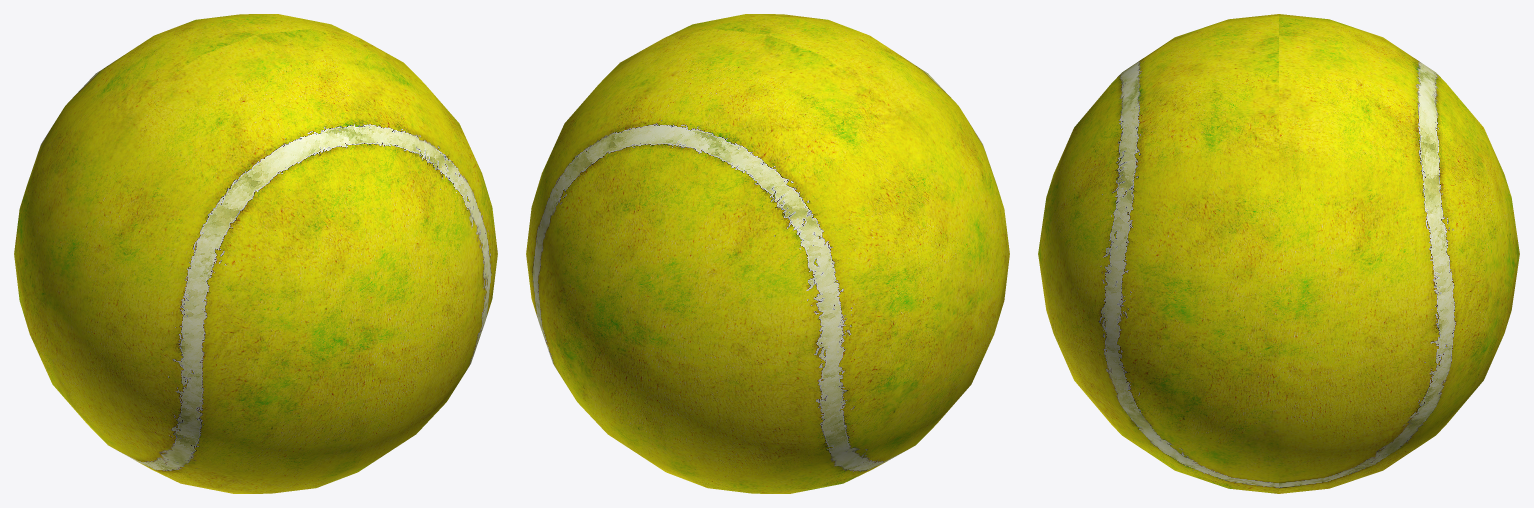
The model's file is TennisBall.fbx.
The picture shows the model from 3 angles, left to right: view 1: azimuth 30°, elevation 25°; view 2: azimuth 150°, elevation 25°; view 3: azimuth 270°, elevation 25°; orthographic projection.
Visible parts, largest first — view 1: TennisBall; view 2: TennisBall; view 3: TennisBall.
Part boxes in pixels (box(x1,y1,x2,y2)): TennisBall: box(14, 14, 497, 493); TennisBall: box(526, 14, 1009, 493); TennisBall: box(1038, 14, 1519, 493).
Size of the model in its own units: 6.63 by 6.63 by 6.63.
